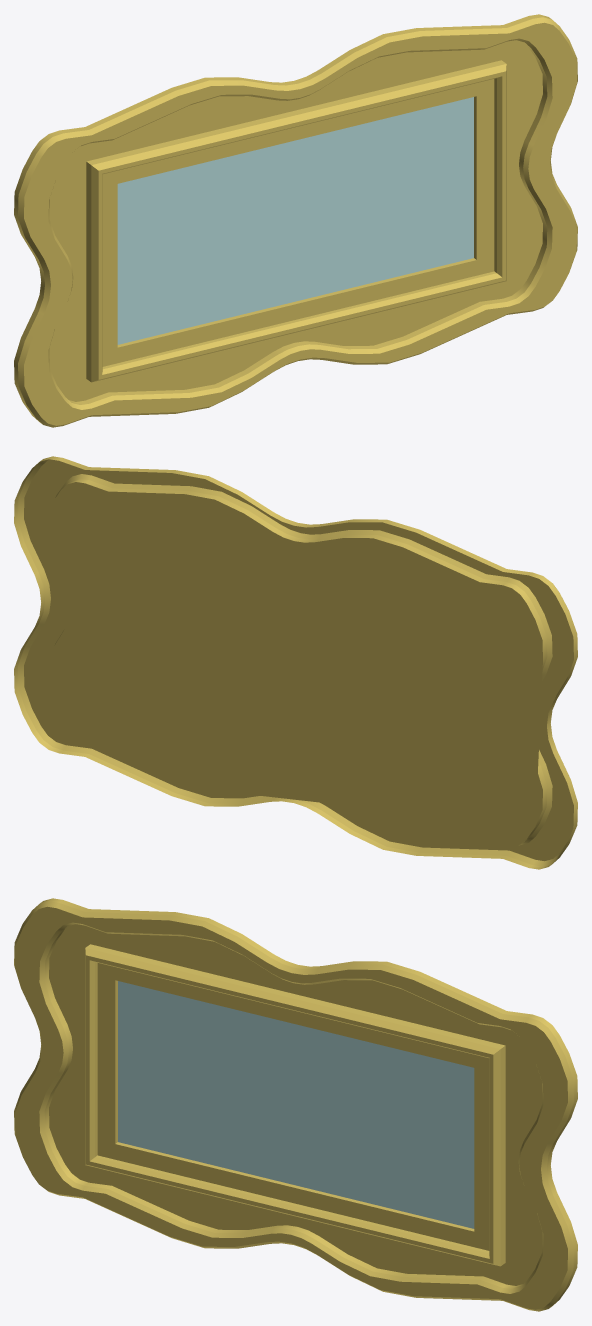
File: Cuadro_Modelo_1.fbx
3 renders of one model, top to bottom at view 1: azimuth 30°, elevation 25°; view 2: azimuth 150°, elevation 25°; view 3: azimuth 330°, elevation 25°, orthographic.
Parts seen in each view (by area): view 1: Cuadro_Modelo1; view 2: Cuadro_Modelo1; view 3: Cuadro_Modelo1.
Part boxes in pixels (x1,y1,x2,y2): Cuadro_Modelo1: (14,14,577,427); Cuadro_Modelo1: (14,456,577,869); Cuadro_Modelo1: (14,898,577,1311).
Bounding box in the file's own units: 2.46 × 1.37 × 0.0632.
